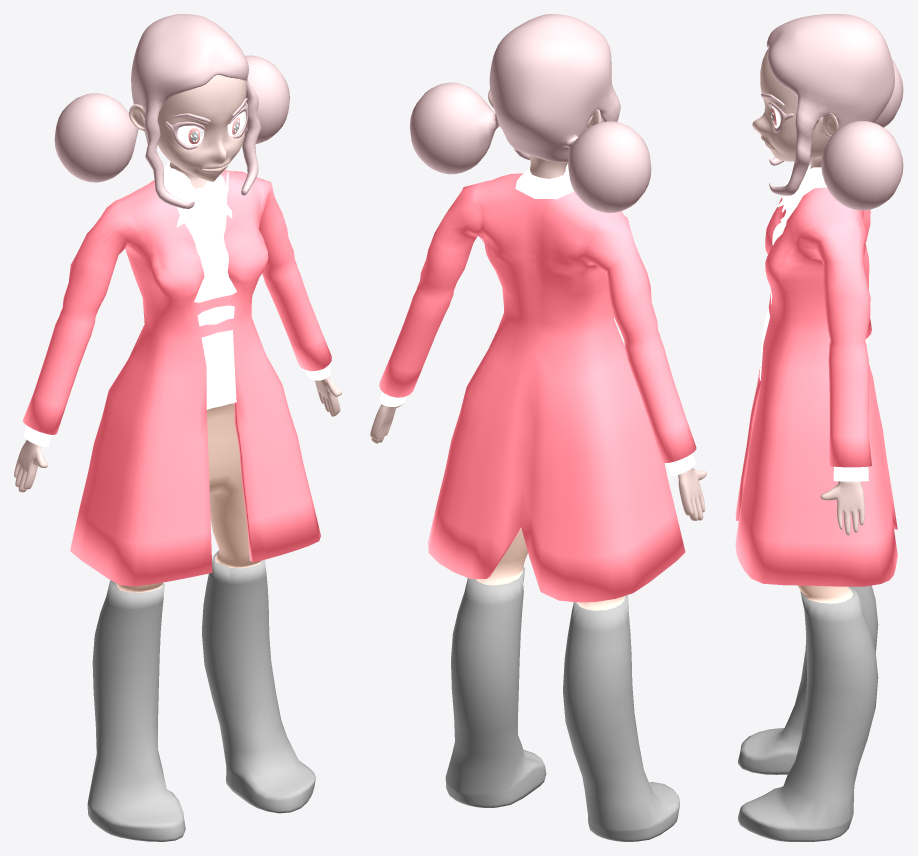
Rendered from coriander.gltf.
3 views of the same model, side by side, from view 1: azimuth 30°, elevation 25°; view 2: azimuth 150°, elevation 25°; view 3: azimuth 270°, elevation 25° (orthographic). The views are drawn at different scales.
Parts seen in each view (by area): view 1: head, hair_retopo, Plane; view 2: head, hair_retopo; view 3: head, hair_retopo, Plane.
Part boxes in pixels (<box>): head: <box>14,74,341,841</box>; hair_retopo: <box>54,14,289,208</box>; Plane: <box>172,171,232,228</box>; head: <box>370,89,706,841</box>; hair_retopo: <box>409,14,651,212</box>; head: <box>735,48,897,841</box>; hair_retopo: <box>766,14,903,210</box>; Plane: <box>777,167,805,217</box>.
Size of the model in its own units: 1.92 by 4.44 by 0.8713.
